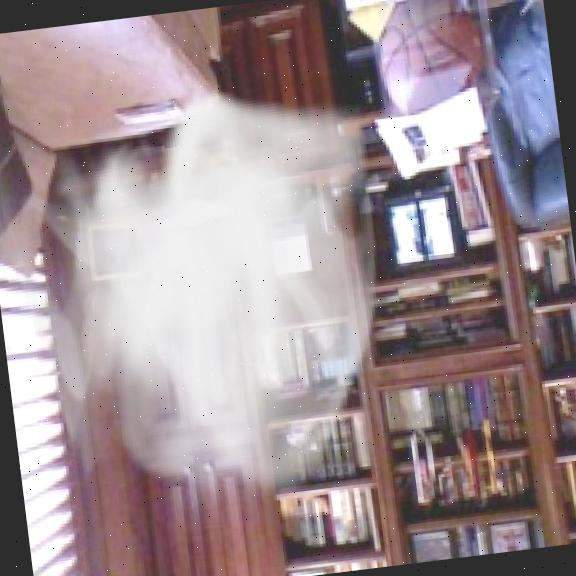smoke: (0, 68, 419, 536)
